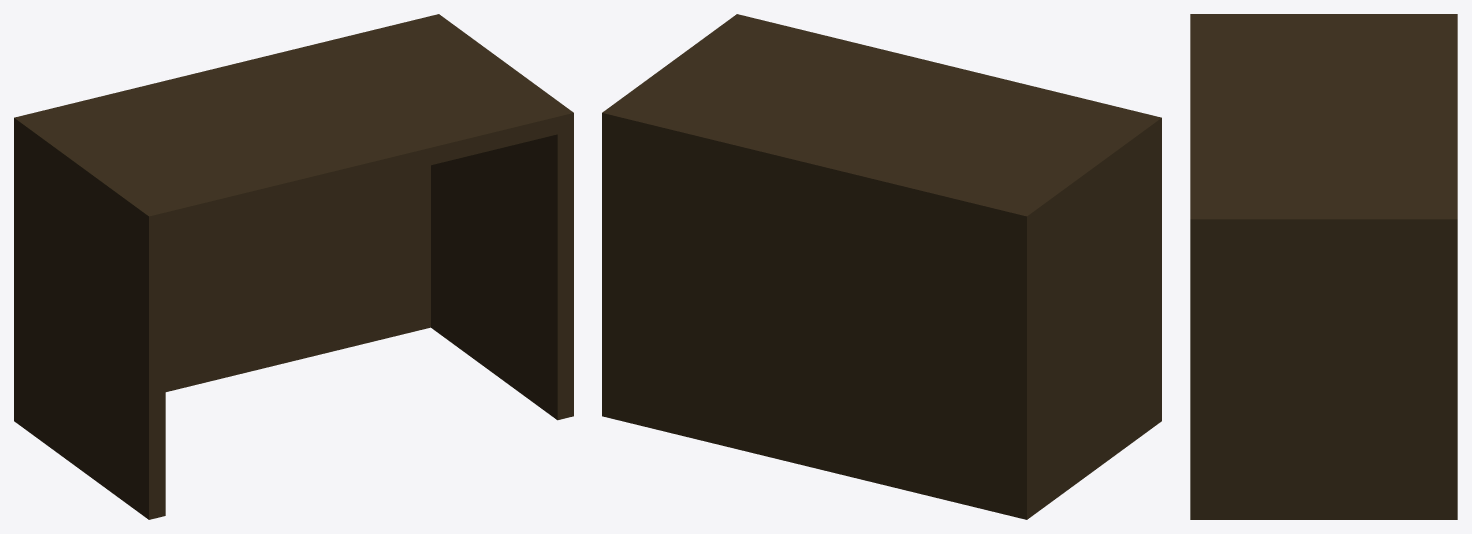
File: Itr_Wardrobe2_Body2_02.FBX
The picture shows the model from 3 angles, left to right: view 1: azimuth 30°, elevation 25°; view 2: azimuth 150°, elevation 25°; view 3: azimuth 270°, elevation 25°; orthographic projection.
Visible parts, largest first — view 1: Itr_Wardrobe2_Body2_02; view 2: Itr_Wardrobe2_Body2_02; view 3: Itr_Wardrobe2_Body2_02.
Part boxes in pixels (x1=…): Itr_Wardrobe2_Body2_02: x1=14, y1=14, x2=573, y2=519; Itr_Wardrobe2_Body2_02: x1=602, y1=14, x2=1161, y2=519; Itr_Wardrobe2_Body2_02: x1=1190, y1=14, x2=1457, y2=519.
Size of the model in its own units: 39.14 by 26.71 by 21.54.
